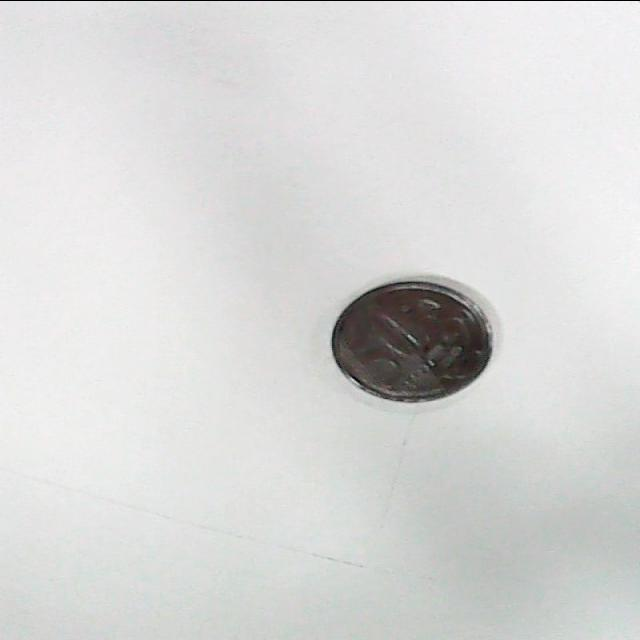50 cents: (326, 276, 500, 404)
